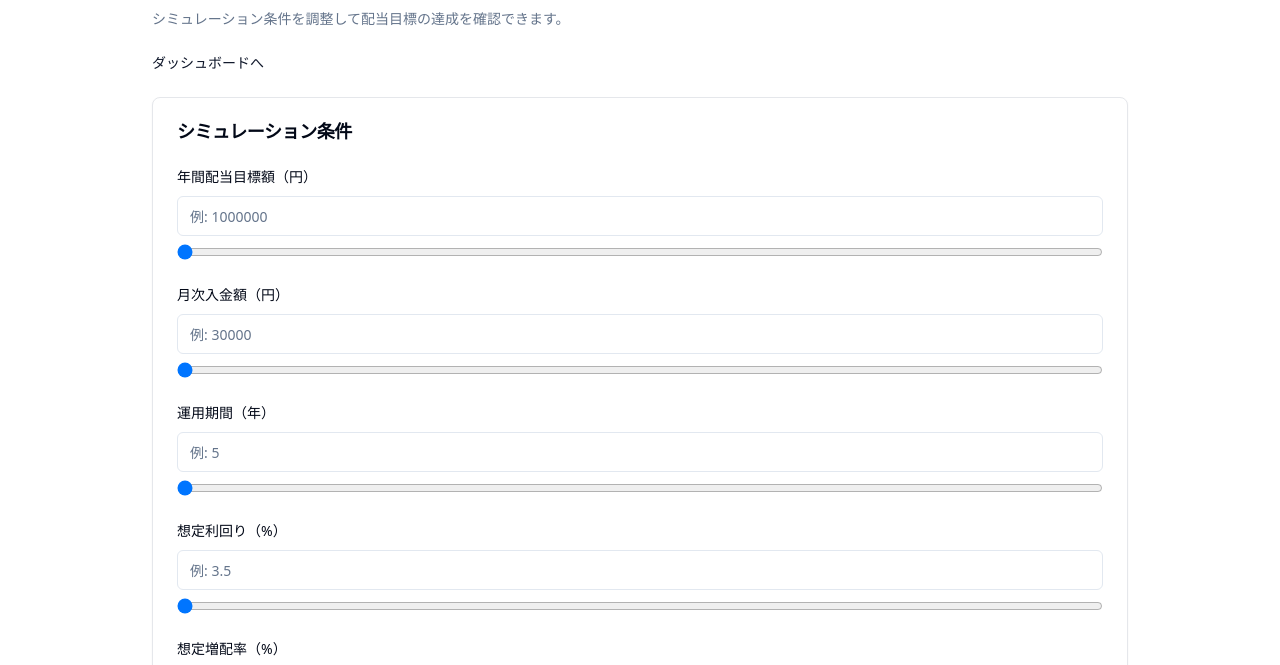
Scenario: DividendGoalSimulationPage integration › 入力後にシミュレーション結果が更新される
The width and height of the screenshot is (1280, 665).
Type "1000000" into the number field labelled "年間配当目標額（円）" at (640, 216), box [177,196,1103,236]
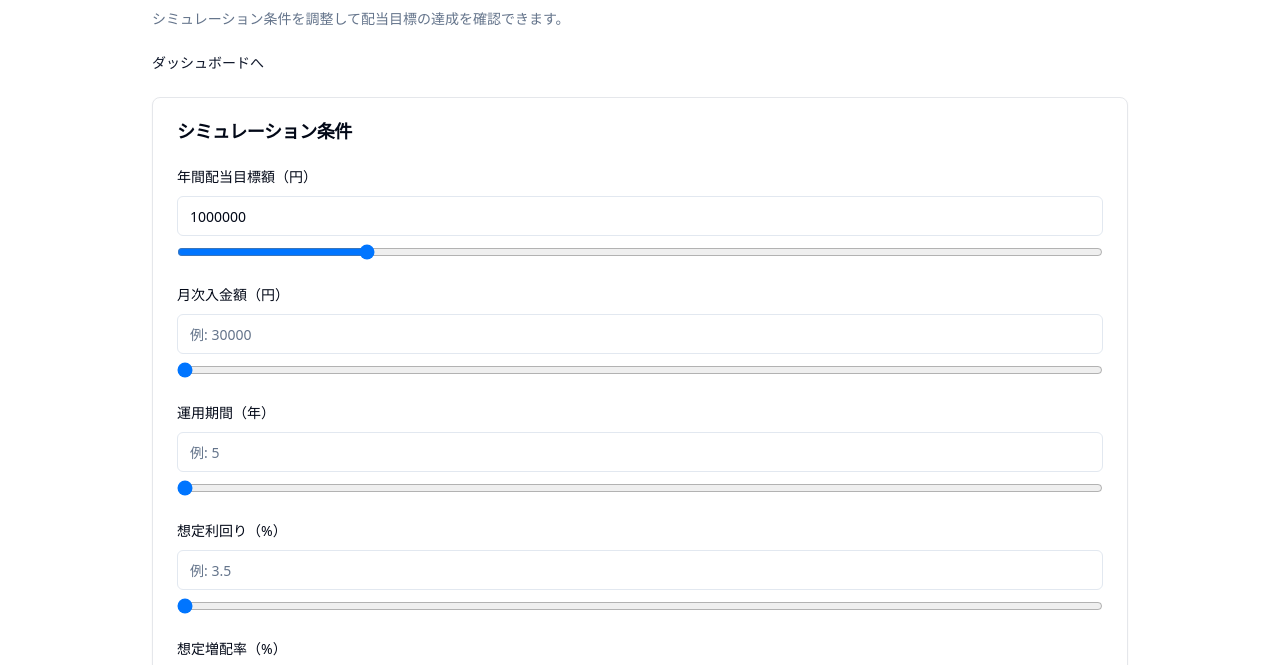
Type "30000" into the number field labelled "月次入金額（円）" at (640, 334), box [177,314,1103,354]
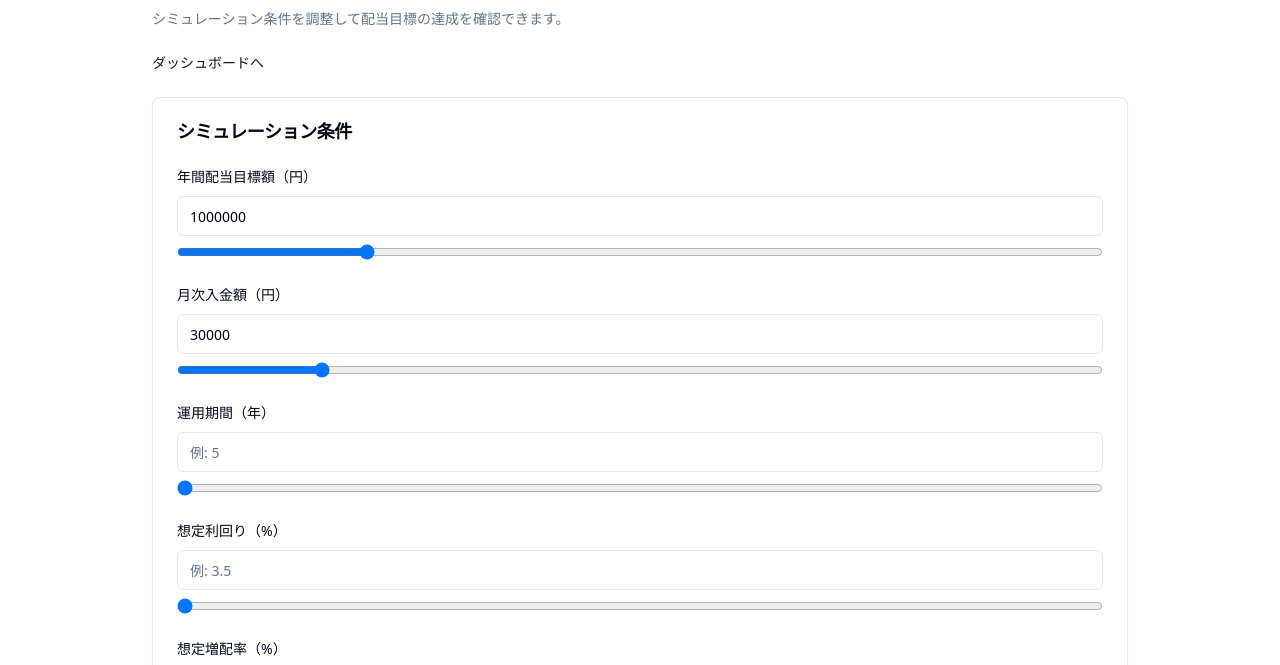
Type "5" into the number field labelled "運用期間（年）" at (640, 452), box [177,432,1103,472]
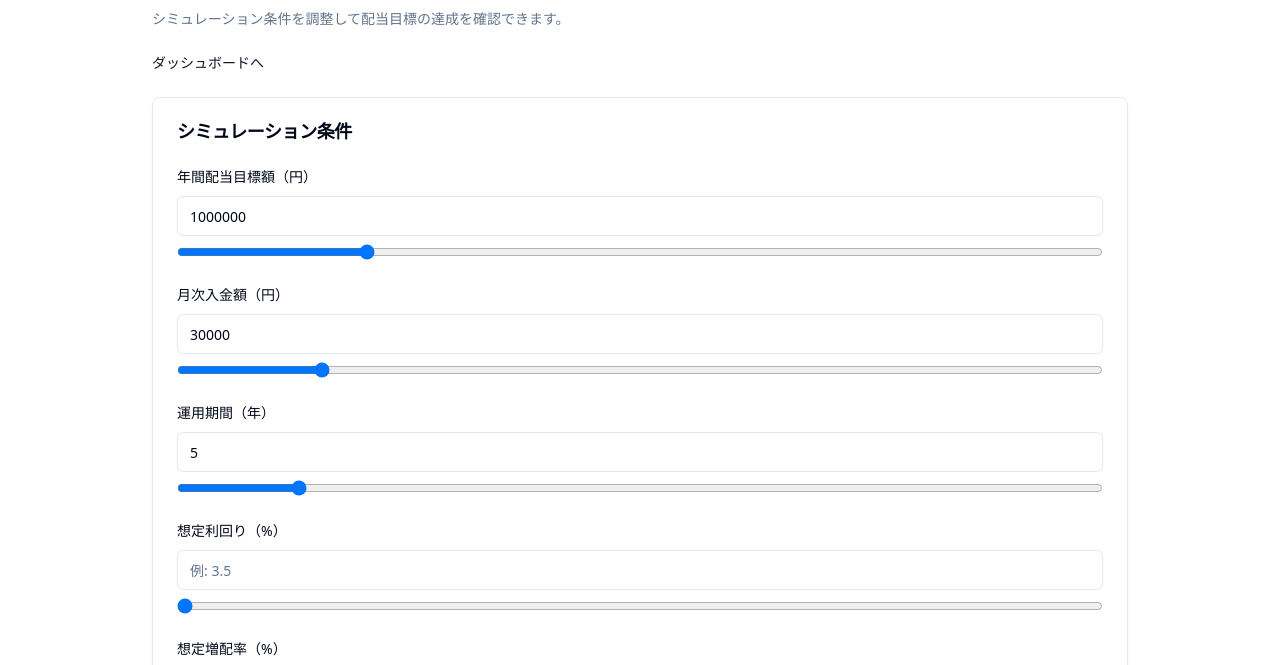
Type "3.5" into the number field labelled "想定利回り（%）" at (640, 570), box [177,550,1103,590]
(page scrolled)
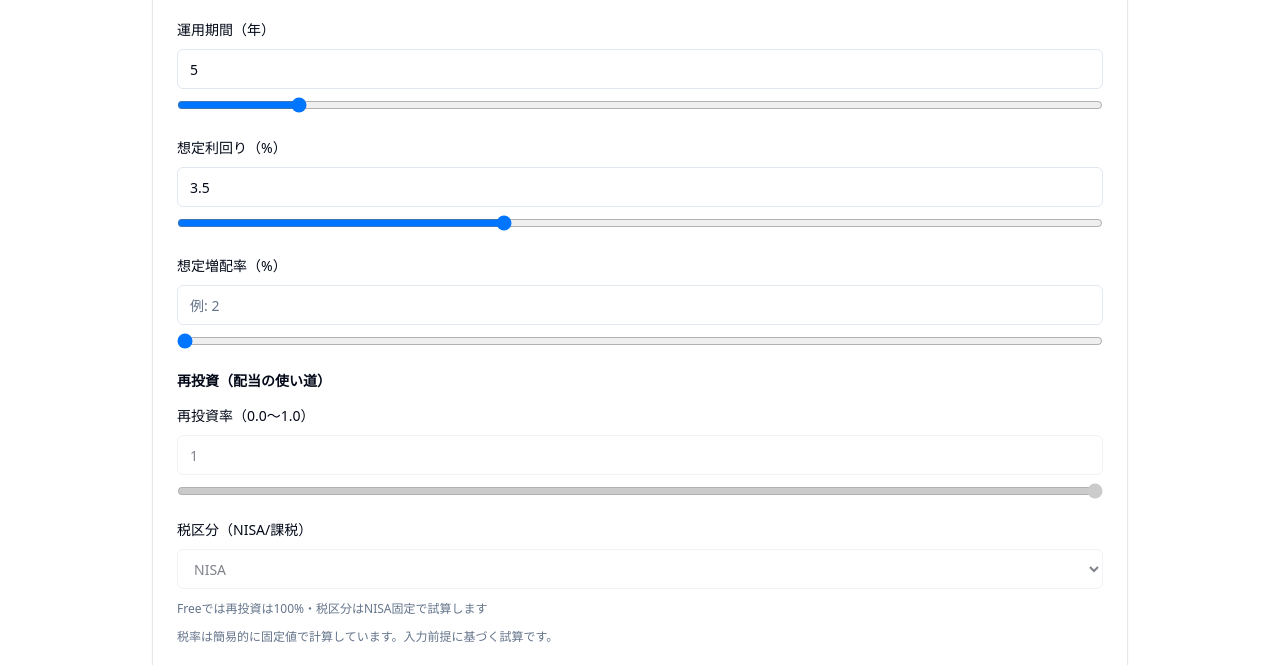
Type "2" into the number field labelled "想定増配率（%）" at (640, 305), box [177,285,1103,325]
(page scrolled)
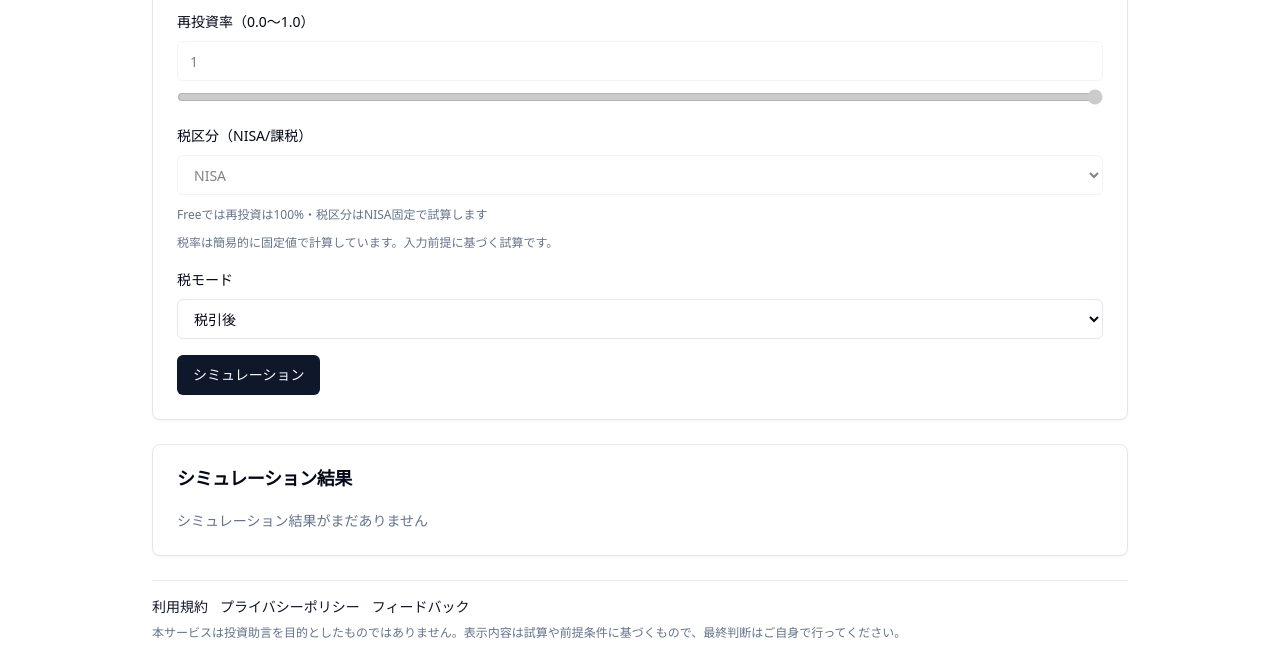
Click the button "シミュレーション" at (249, 375), box [177,355,320,395]
(page scrolled)
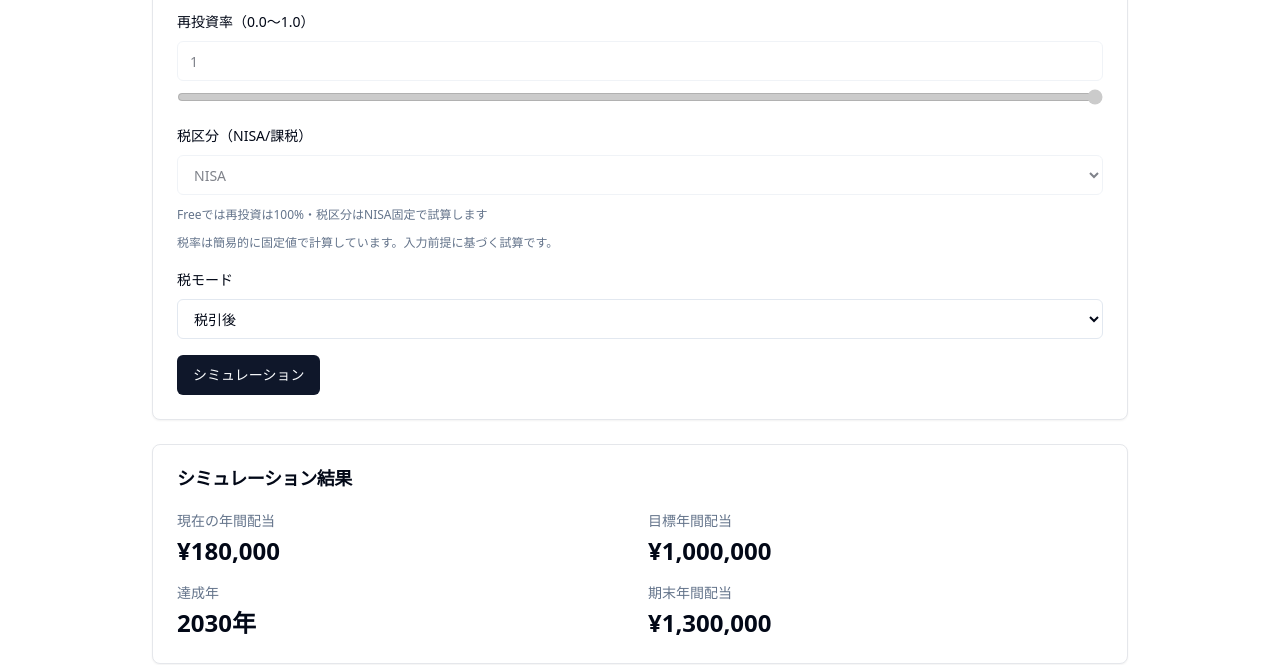
expect the text "目標年間配当" is shown: met, box [648,511,732,530]
expect the text "¥1,000,000" is shown: met, box [648,534,772,567]
expect the text "達成年" is shown: met, box [177,583,219,602]
